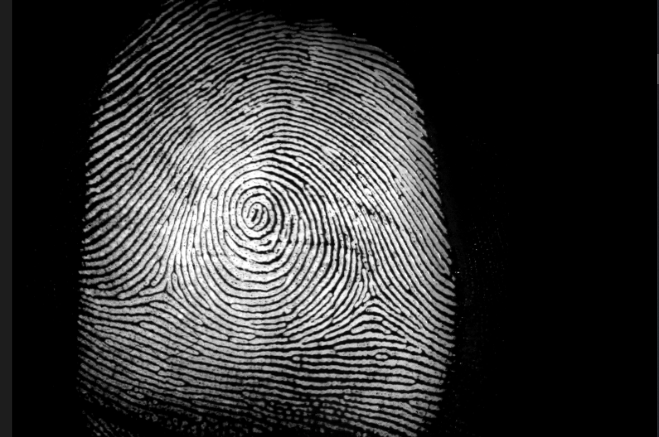deltas: (131, 262, 190, 316), (350, 271, 397, 322)
nucleo: (228, 181, 280, 243)
